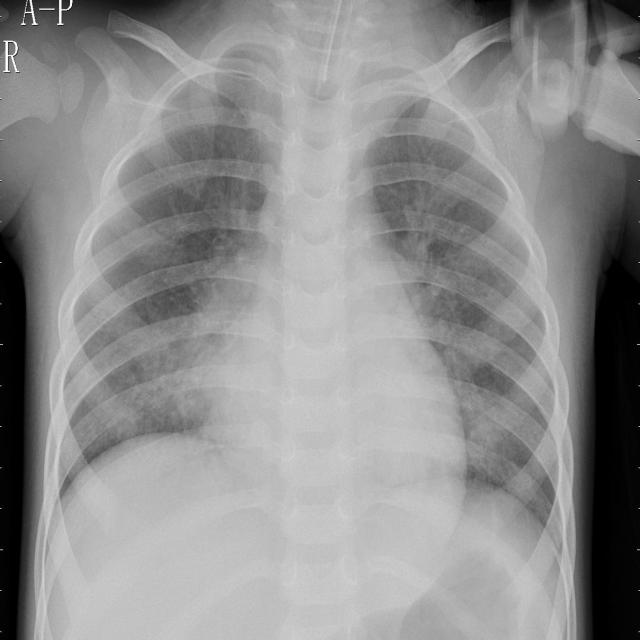low-pneumonia: (377, 180, 503, 475), (141, 205, 272, 448), (219, 19, 297, 198)
